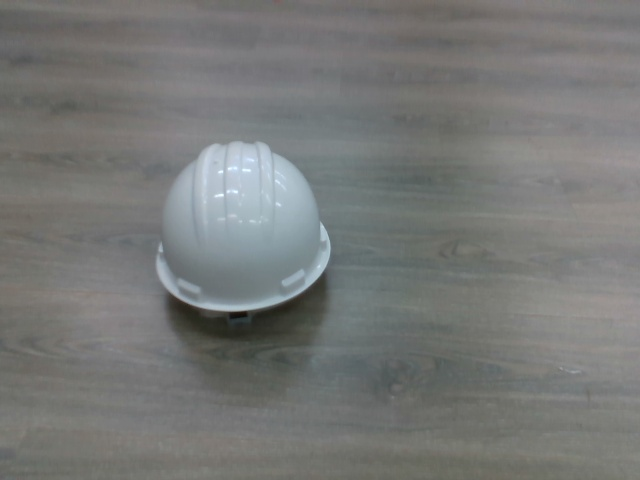helmet: (154, 137, 335, 326)
